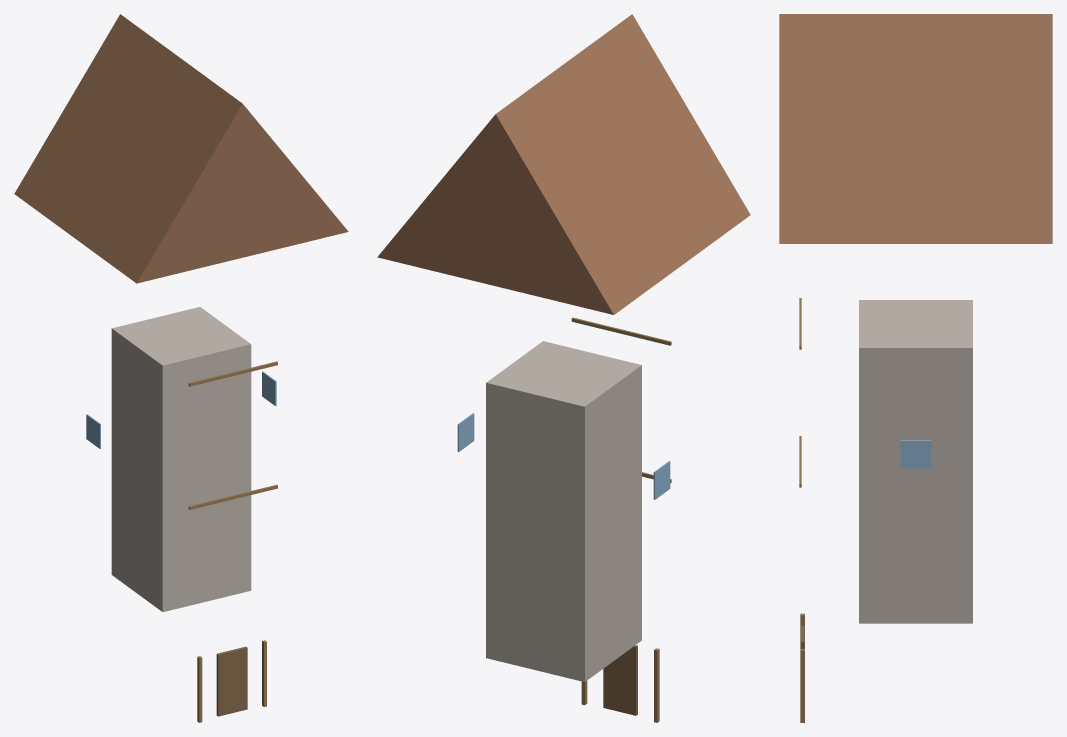
Rendered from medieval_tower.glb.
The picture shows the model from 3 angles, left to right: view 1: azimuth 30°, elevation 25°; view 2: azimuth 150°, elevation 25°; view 3: azimuth 270°, elevation 25°; orthographic projection. The views are drawn at different scales.
Visible parts, largest first — view 1: medieval_tower_roof, medieval_tower_walls, medieval_tower_door; view 2: medieval_tower_roof, medieval_tower_walls, medieval_tower_door; view 3: medieval_tower_roof, medieval_tower_walls, medieval_tower_window.001.
Boxes of the visible parts, box(x1,y1,x2,y2) form: medieval_tower_roof: box(14, 14, 348, 283); medieval_tower_walls: box(111, 307, 251, 611); medieval_tower_door: box(216, 646, 247, 716); medieval_tower_roof: box(377, 14, 750, 314); medieval_tower_walls: box(486, 341, 641, 682); medieval_tower_door: box(603, 645, 637, 715); medieval_tower_roof: box(779, 14, 1052, 243); medieval_tower_walls: box(859, 300, 972, 623); medieval_tower_window.001: box(900, 440, 931, 468).
Bounding box in the file's own units: 3.6 × 10.02 × 3.6.
